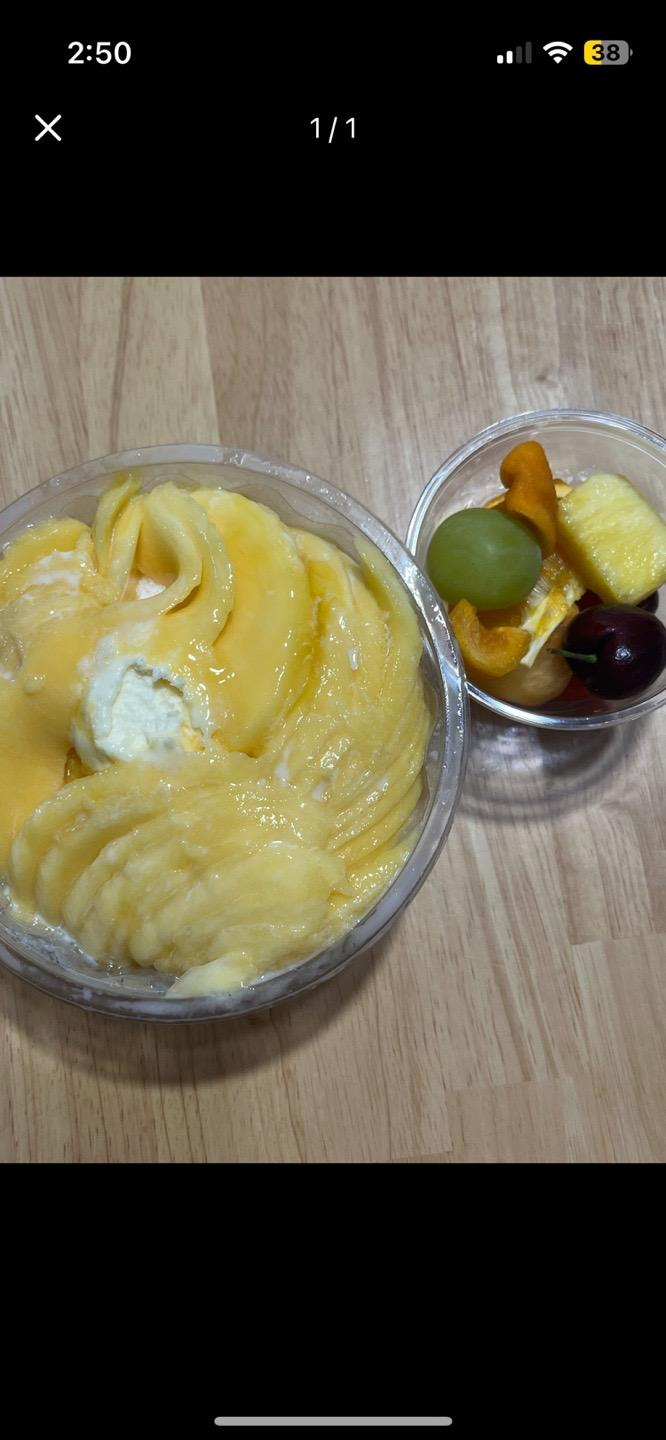Lunch Box: (0, 446, 466, 1021), (407, 410, 665, 729)
